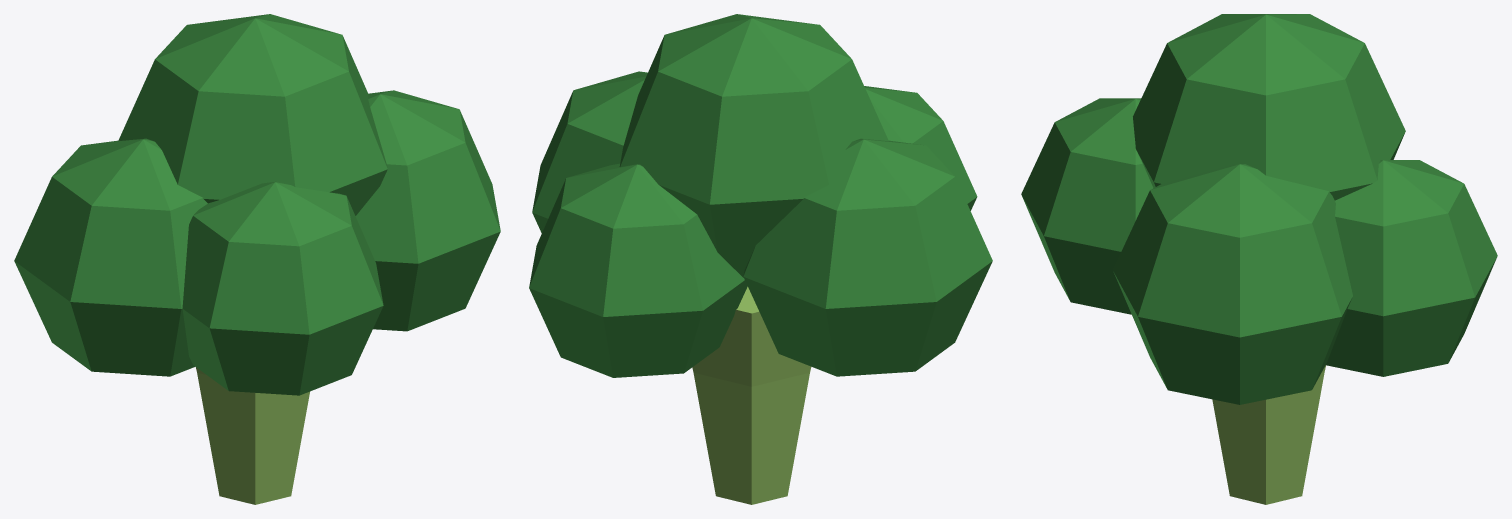
The model's file is Food_Broccoli.obj.
The picture shows the model from 3 angles, left to right: view 1: azimuth 30°, elevation 25°; view 2: azimuth 150°, elevation 25°; view 3: azimuth 270°, elevation 25°; orthographic projection.
Bounding box in the file's own units: 1.95 × 2 × 1.83.
